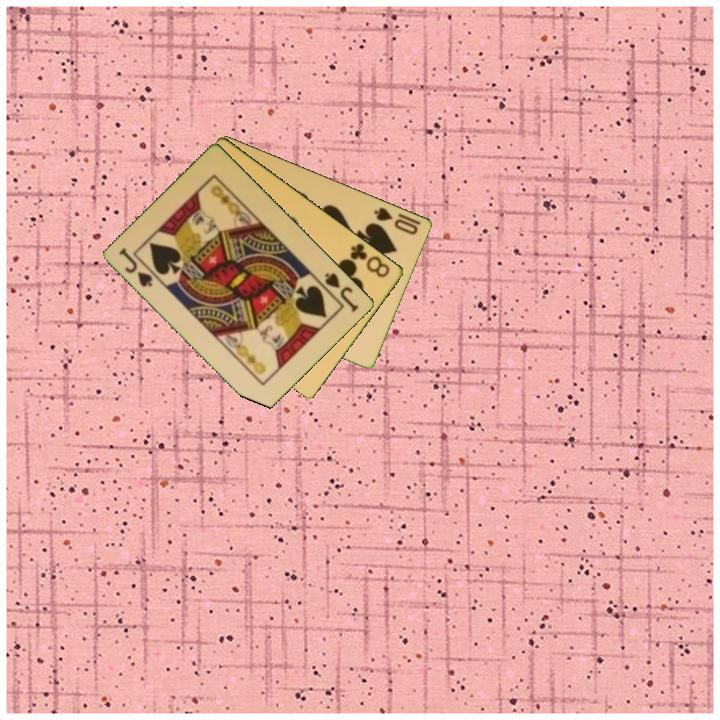10s: (370, 204, 421, 238)
8c: (347, 240, 393, 280)
Js: (321, 269, 362, 315), (115, 244, 156, 290)
